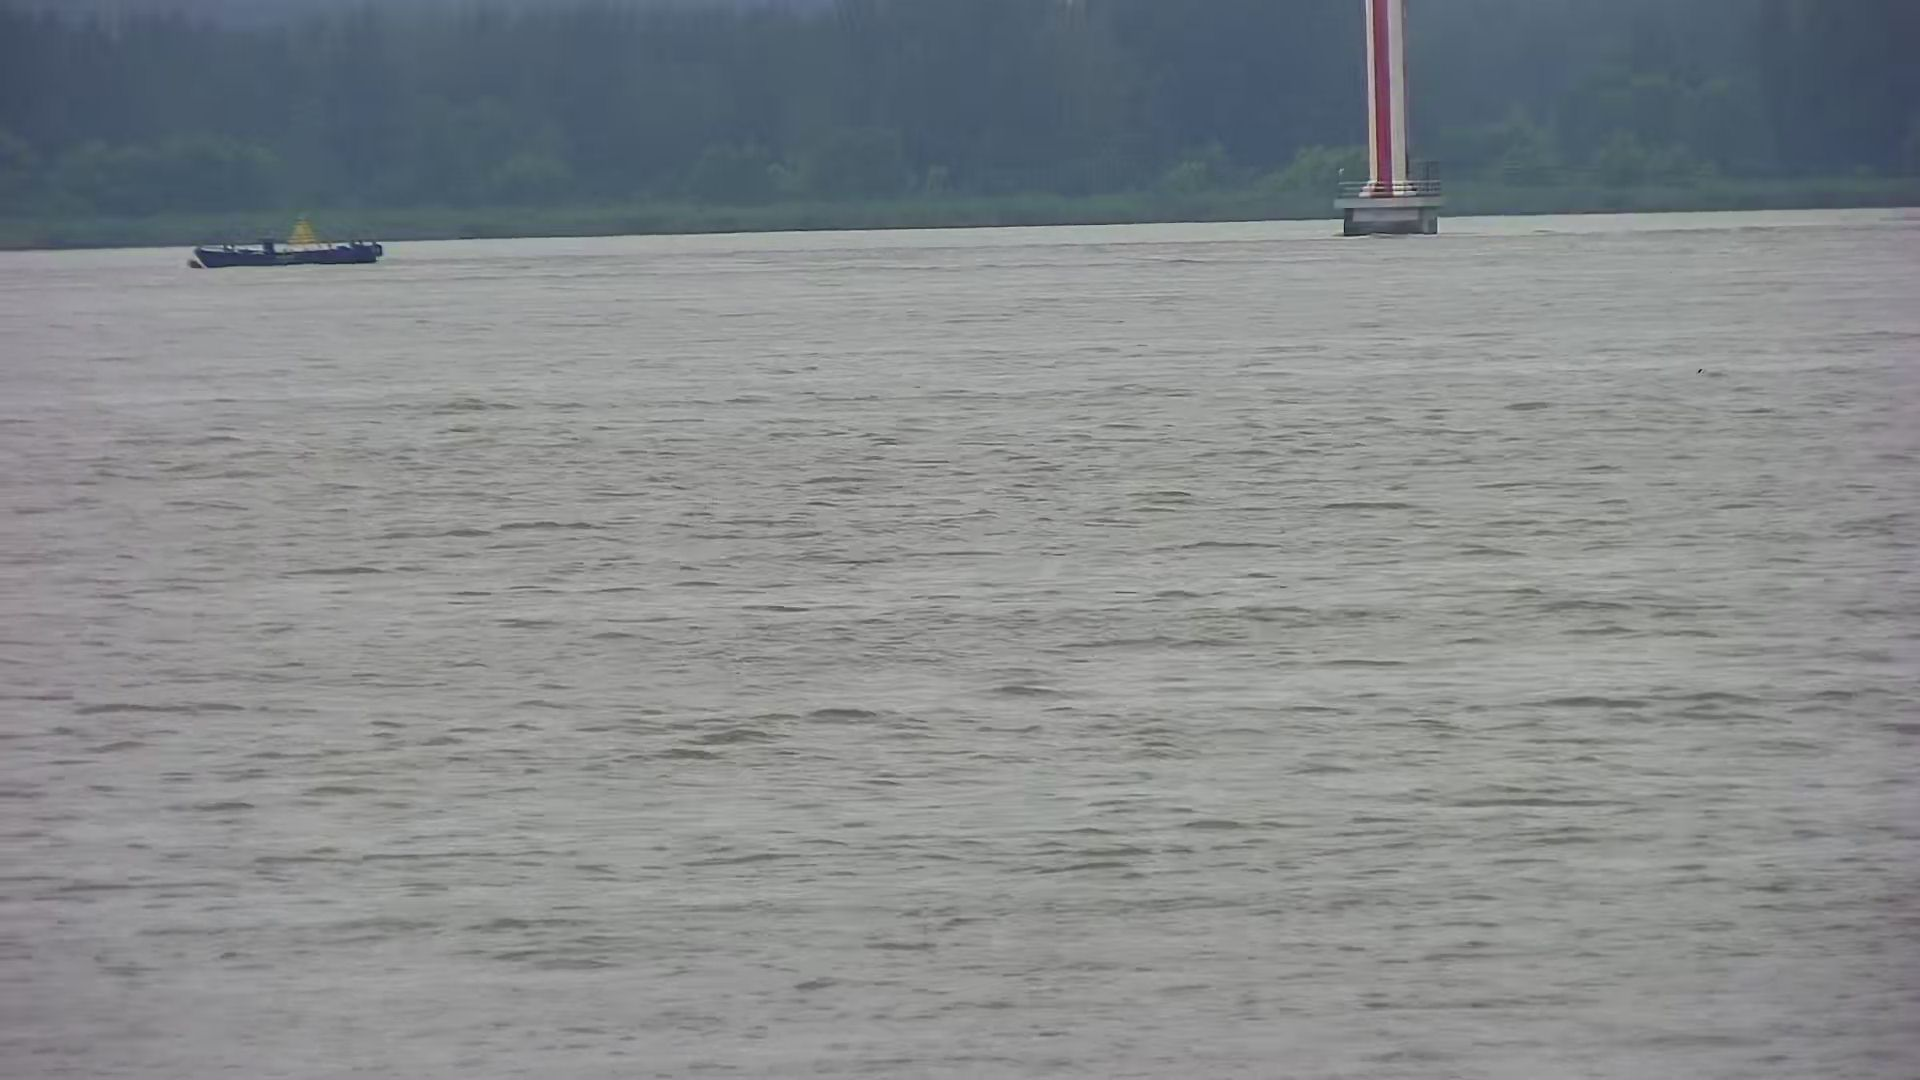boat: (195, 206, 386, 272)
platform: (1331, 1, 1448, 237)
